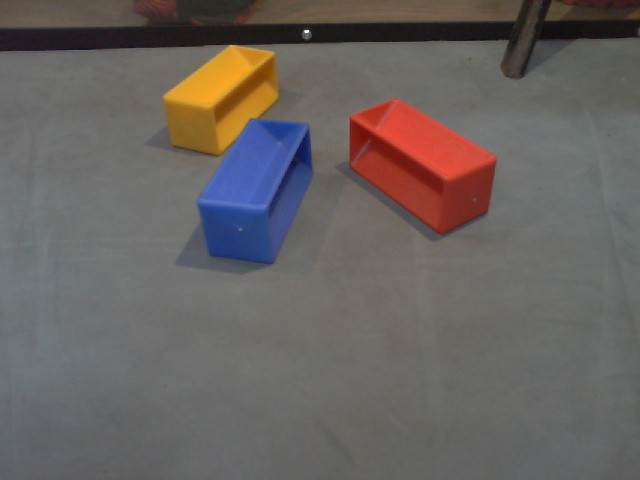BlueSample: (194, 113, 317, 268)
RedSample: (346, 96, 500, 238)
YellowSample: (161, 41, 281, 159)
